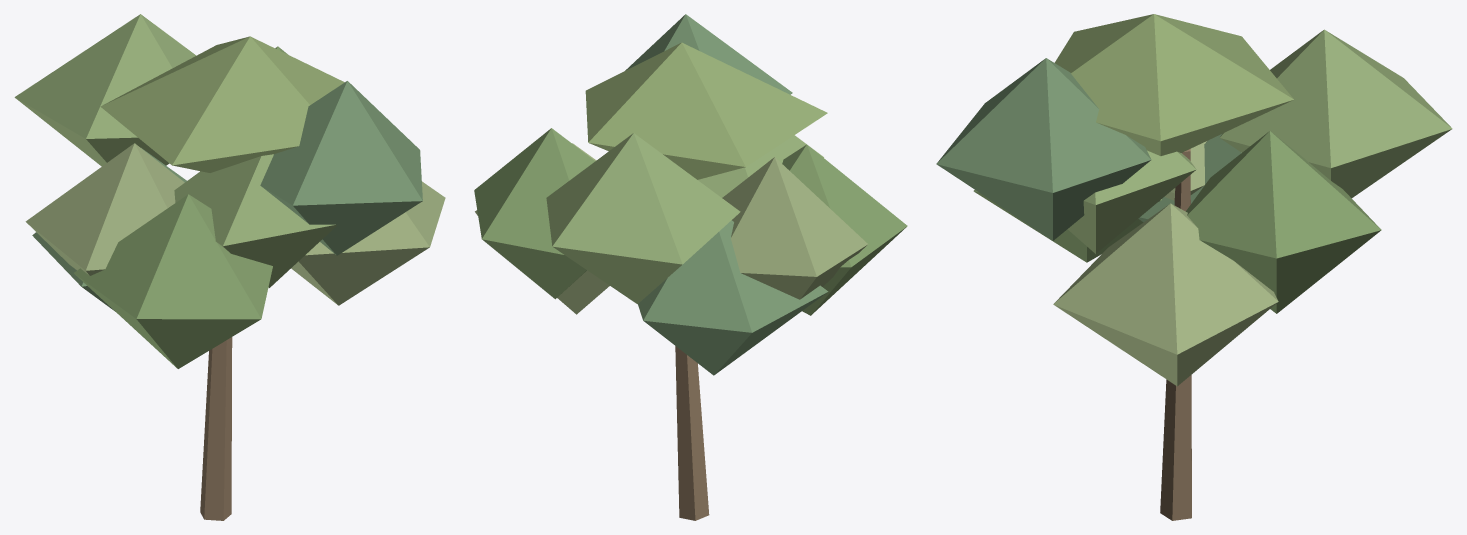
3 views of the same model, side by side, from view 1: azimuth 30°, elevation 25°; view 2: azimuth 150°, elevation 25°; view 3: azimuth 270°, elevation 25° (orthographic). The views are drawn at different scales.
Bounding box in the file's own units: 7.05 × 8.33 × 7.61.
